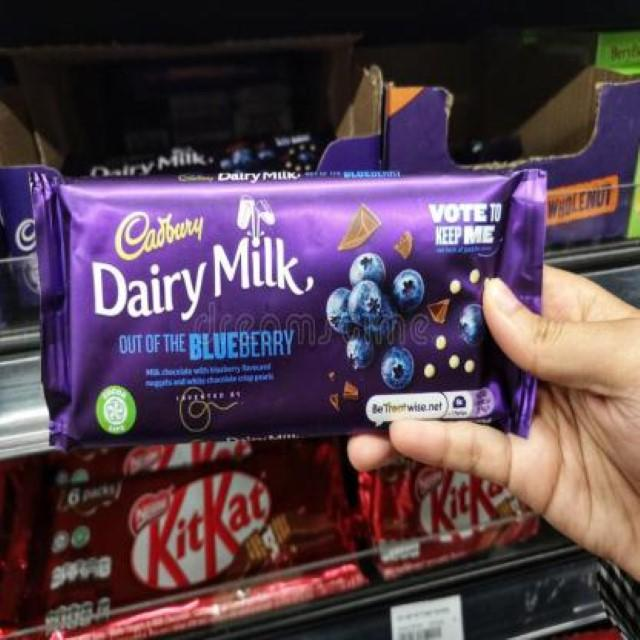cadbury_chocolate: (45, 183, 552, 412)
kitkat_chocolate: (35, 455, 360, 595), (378, 433, 555, 582)
